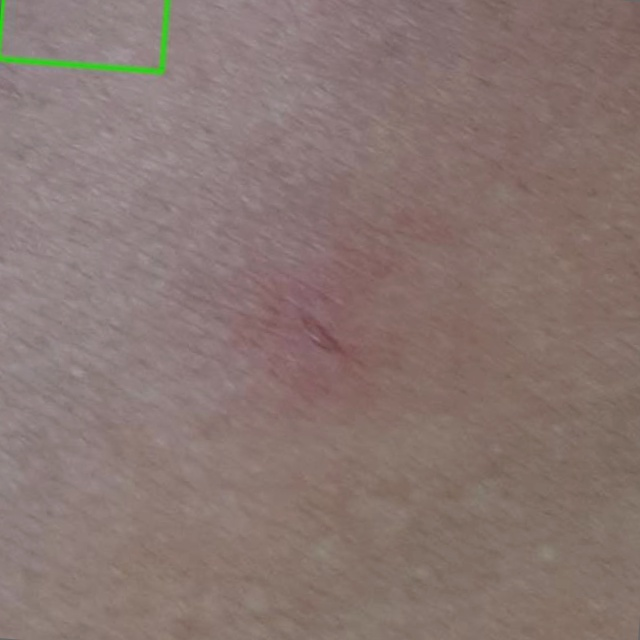Seborrheic Dermatitis: (0, 0, 167, 72)
